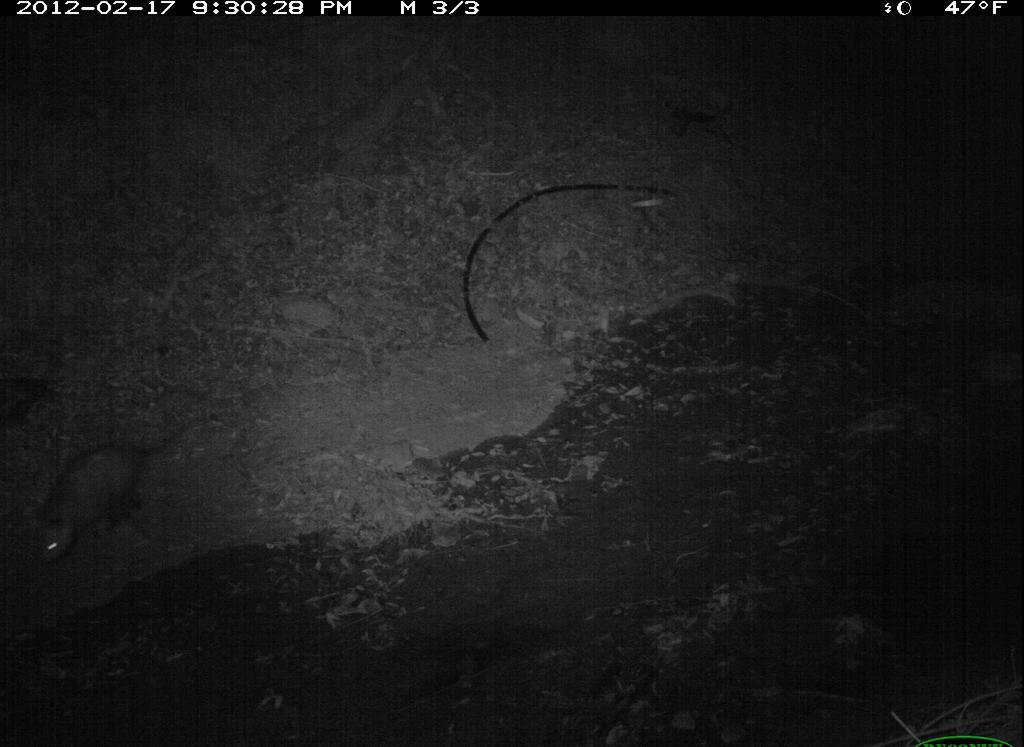opossum: (22, 419, 187, 578)
